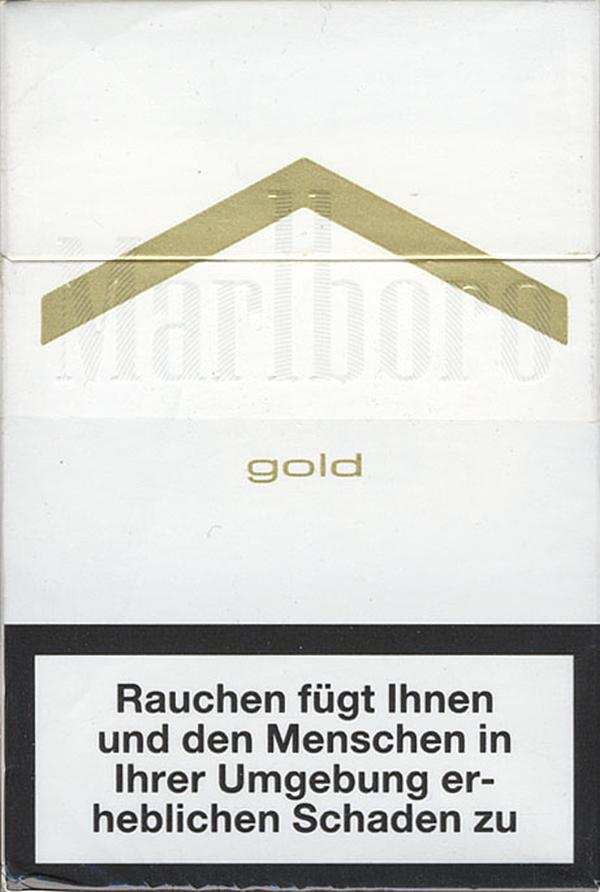marlboro_gold: (11, 7, 600, 886)
